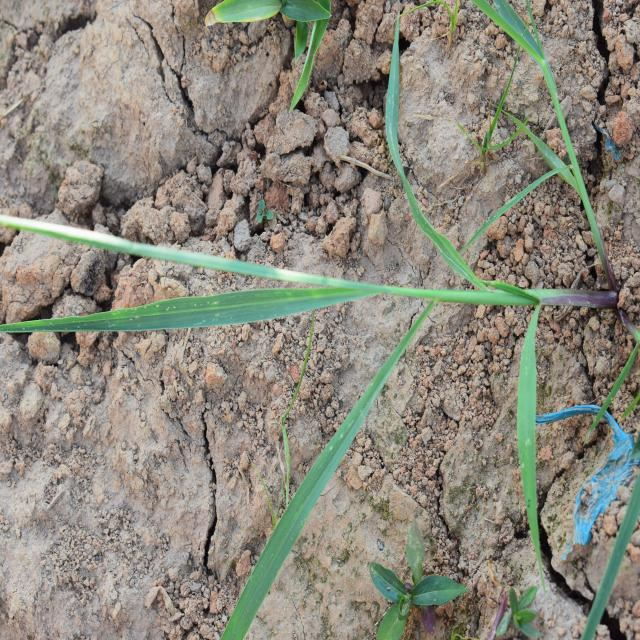green_foxtail: (81, 153, 560, 594)
